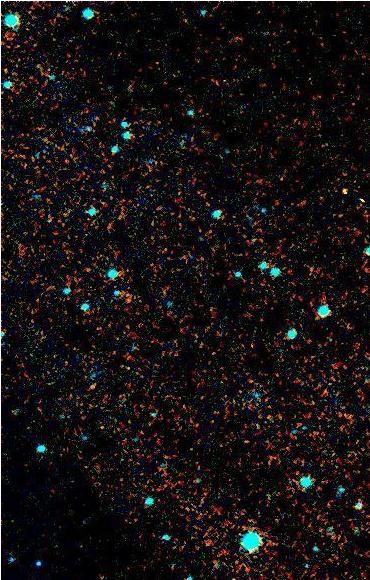star: (330, 177, 360, 207)
